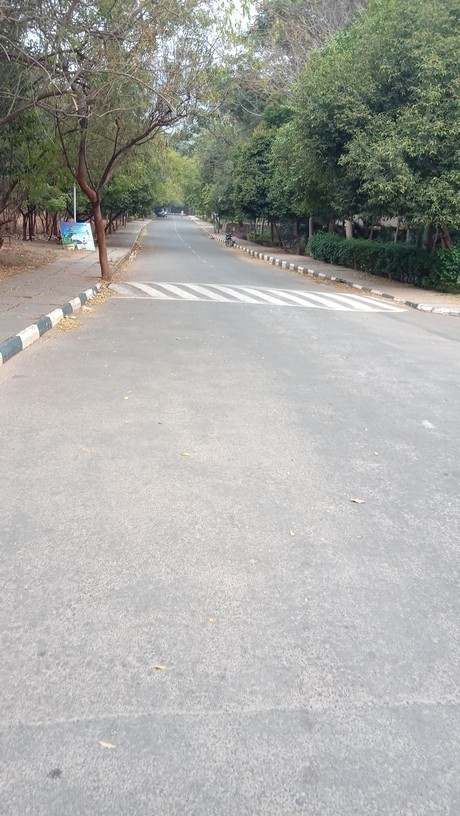bump: (95, 280, 402, 310)
